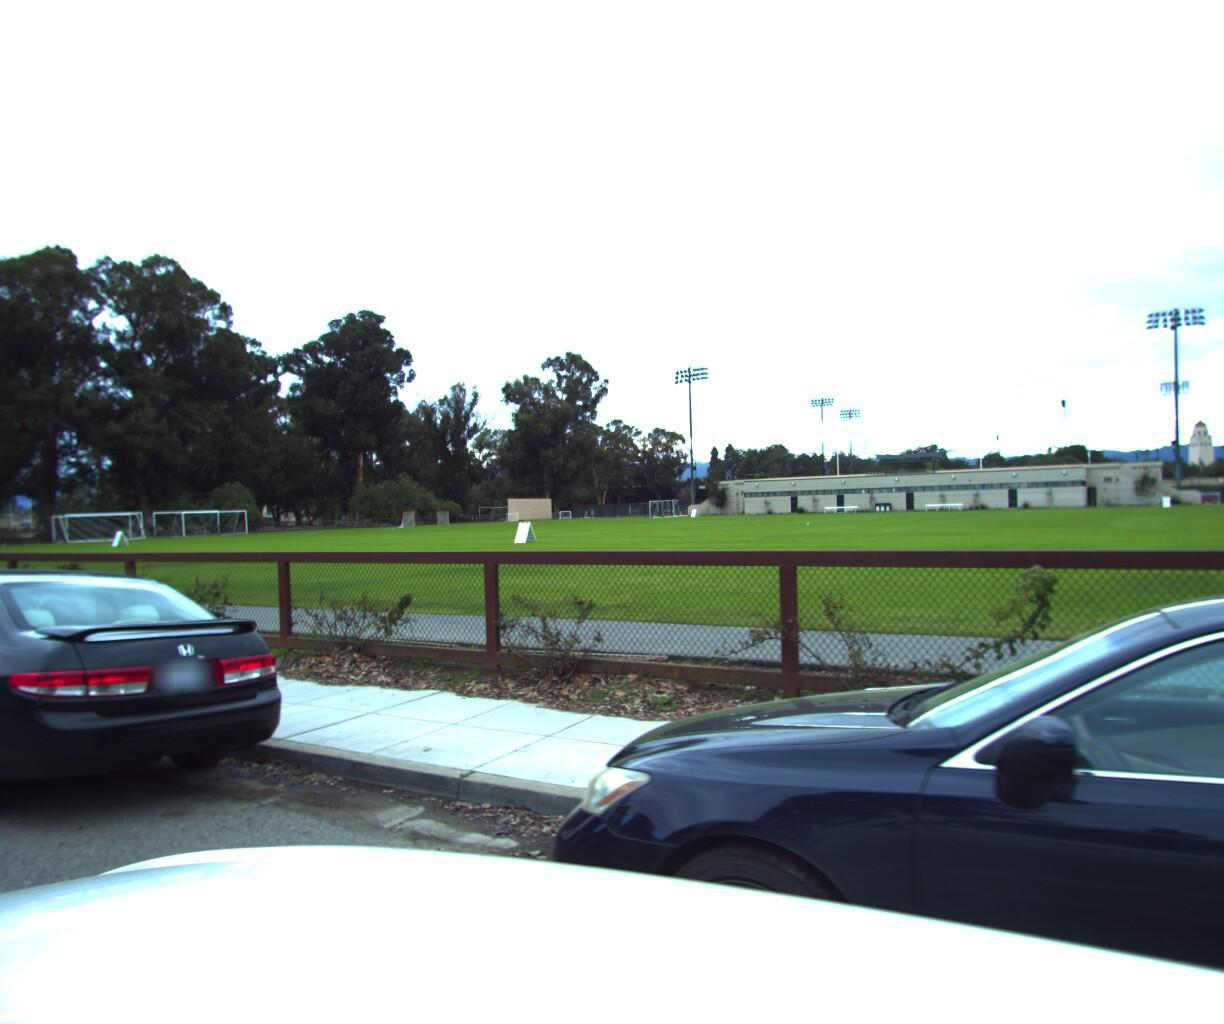car: (454, 523, 1224, 1024), (0, 546, 307, 863)
